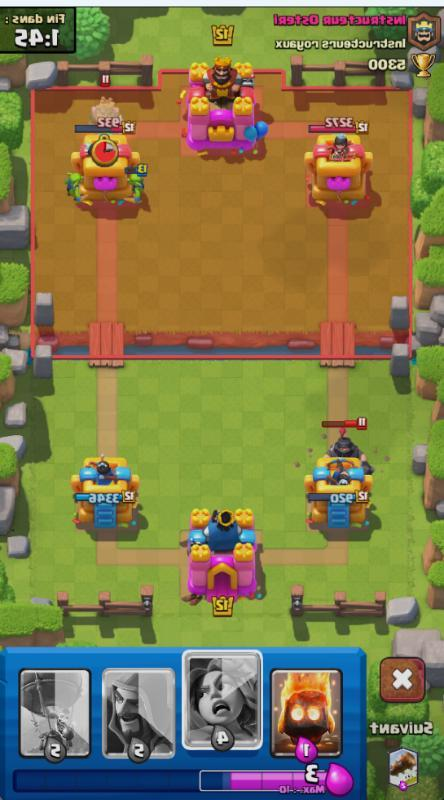enemy_royal_ghost: (87, 93, 127, 122)
player_goblins: (119, 170, 157, 211), (62, 170, 91, 210)
player_mega_knight: (316, 427, 368, 456)
